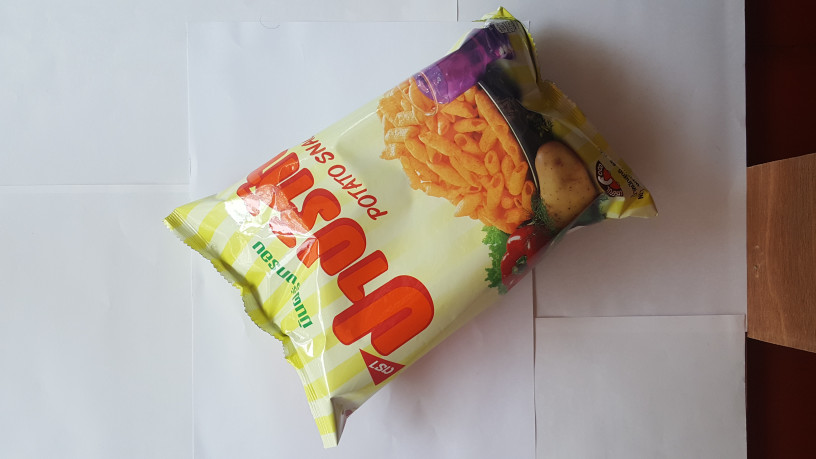paprika: (151, 1, 650, 457)
